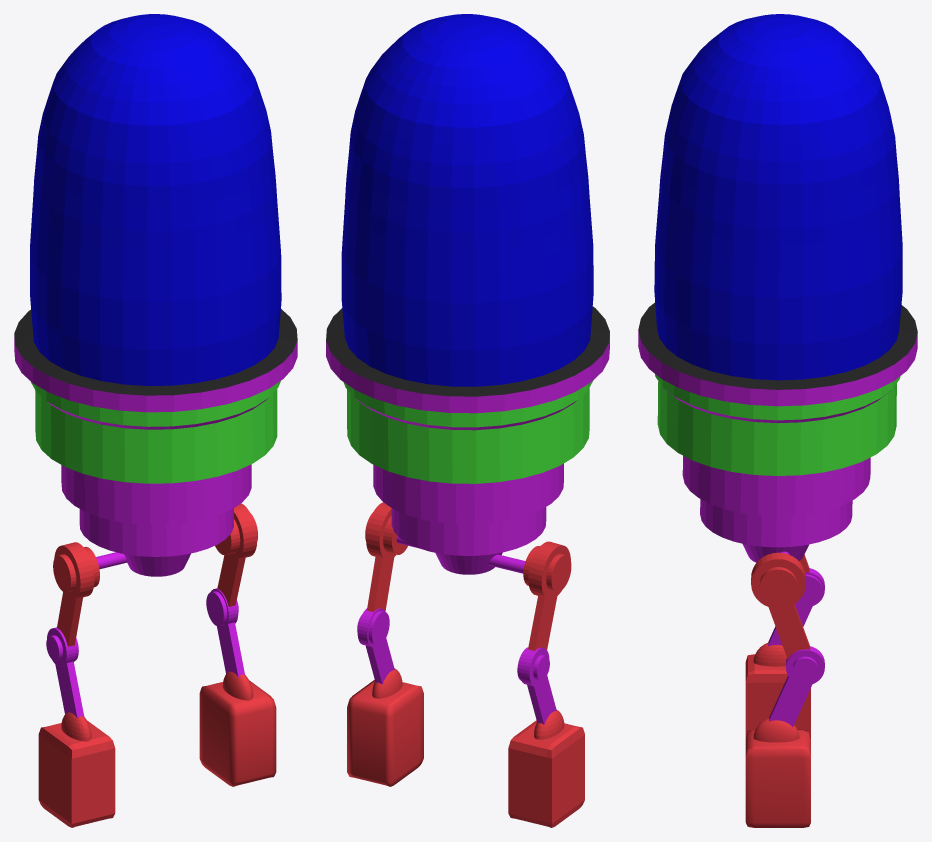
The picture shows the model from 3 angles, left to right: view 1: azimuth 30°, elevation 25°; view 2: azimuth 150°, elevation 25°; view 3: azimuth 270°, elevation 25°; orthographic projection.
Visible parts, largest first — view 1: Body, Right_Foot, Left_Foot, Left_Upper_Leg, Right_Upper_Leg, Left_Bottom_Leg, Right_Bottom_Leg; view 2: Body, Left_Foot, Right_Foot, Left_Upper_Leg, Right_Upper_Leg, Left_Bottom_Leg, Right_Bottom_Leg; view 3: Body, Right_Foot, Right_Upper_Leg, Left_Foot, Right_Bottom_Leg, Left_Bottom_Leg.
Boxes of the visible parts, left/top/right/bottom form: Body: left=14, top=14, right=297, bottom=576; Right_Foot: left=199, top=671, right=276, bottom=786; Left_Foot: left=38, top=712, right=115, bottom=827; Left_Upper_Leg: left=53, top=542, right=99, bottom=646; Right_Upper_Leg: left=215, top=503, right=257, bottom=606; Left_Bottom_Leg: left=46, top=627, right=84, bottom=718; Right_Bottom_Leg: left=206, top=588, right=244, bottom=677; Body: left=326, top=14, right=609, bottom=574; Left_Foot: left=508, top=709, right=584, bottom=827; Right_Foot: left=347, top=668, right=423, bottom=786; Left_Upper_Leg: left=523, top=541, right=571, bottom=650; Right_Upper_Leg: left=365, top=502, right=407, bottom=611; Left_Bottom_Leg: left=517, top=647, right=556, bottom=724; Right_Bottom_Leg: left=357, top=608, right=394, bottom=684; Body: left=638, top=14, right=917, bottom=562; Right_Foot: left=745, top=718, right=810, bottom=827; Right_Upper_Leg: left=751, top=552, right=810, bottom=659; Left_Foot: left=745, top=642, right=810, bottom=736; Right_Bottom_Leg: left=769, top=646, right=824, bottom=726; Left_Bottom_Leg: left=768, top=568, right=824, bottom=646.
Bounding box in the file's own units: 70.81 × 211 × 70.85.
